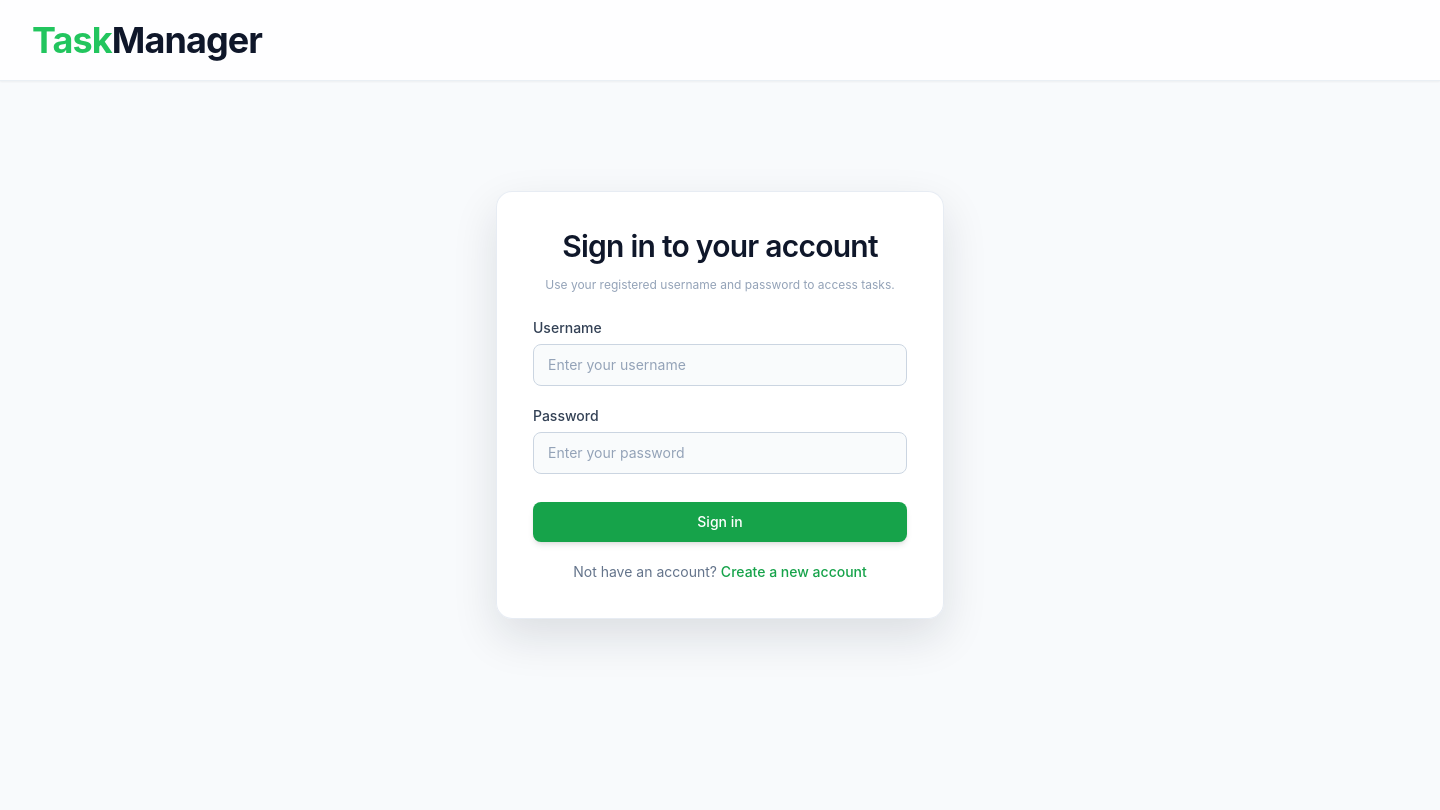
Test: Login Component › shows validation errors for empty fields
What coordinates should you click on to do the following:
click the button "Sign in"
I would click on:
 (720, 522)
Its box is left=533, top=502, right=907, bottom=542.
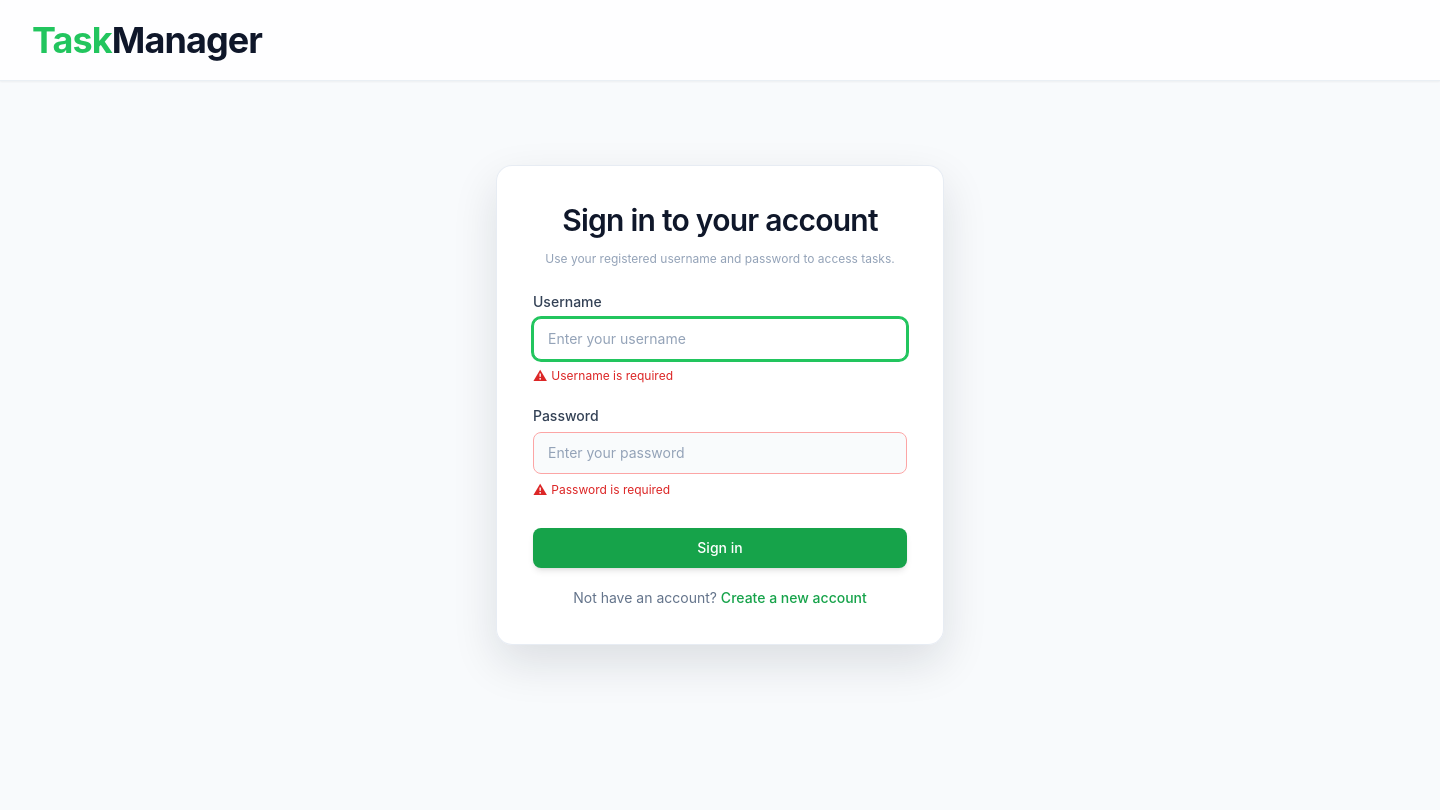
Now the text "⚠ Username is required" is shown, box left=533, top=367, right=673, bottom=384
Now the text "⚠ Password is required" is shown, box left=533, top=481, right=670, bottom=498
